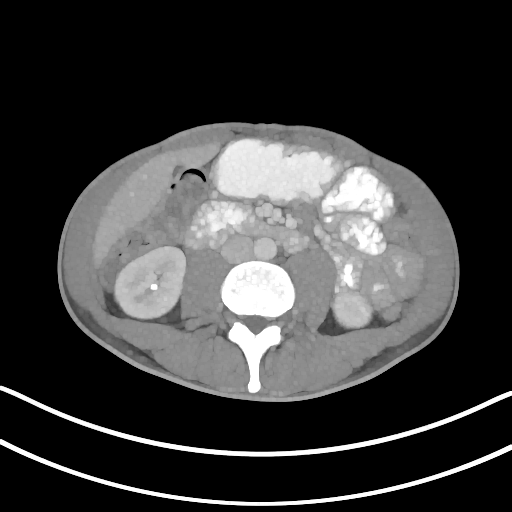Lesion: (146, 279, 160, 294)
